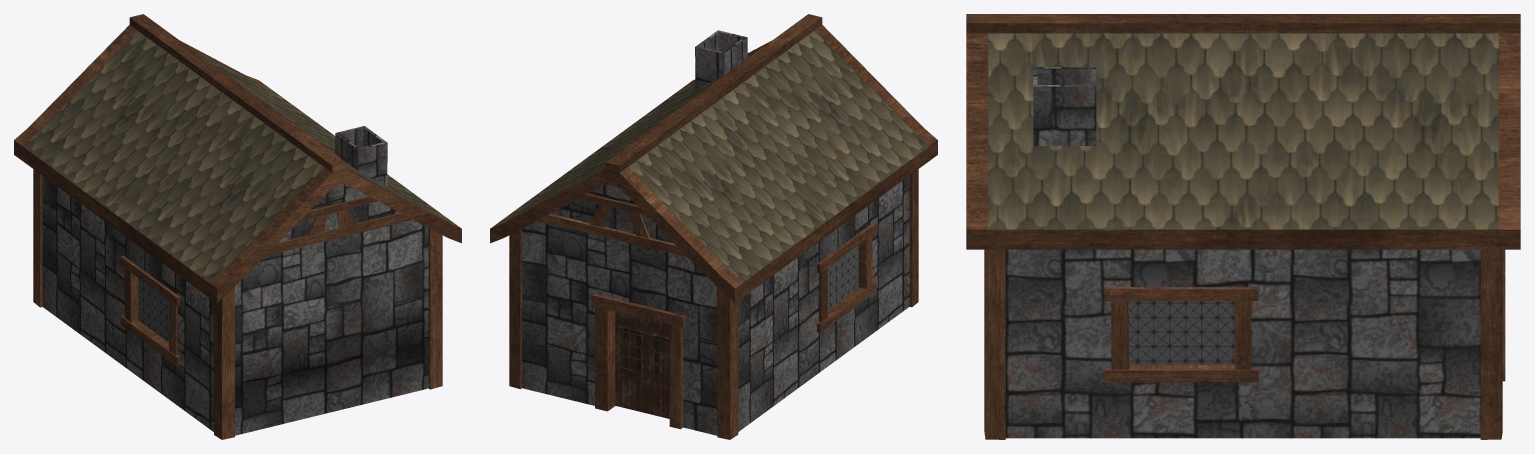
File: Medieval_House_1.glb
3 renders of one model, left to right at view 1: azimuth 30°, elevation 25°; view 2: azimuth 150°, elevation 25°; view 3: azimuth 270°, elevation 25°, orthographic. The views are drawn at different scales.
Visible parts, largest first — view 1: Medieval_House_1.glb; view 2: Medieval_House_1.glb; view 3: Medieval_House_1.glb.
Part boxes in pixels (<box>): Medieval_House_1.glb: <box>14,14,461,439</box>; Medieval_House_1.glb: <box>490,14,937,439</box>; Medieval_House_1.glb: <box>966,14,1520,439</box>.
Bounding box in the file's own units: 140 × 138 × 200.
10 materials, 9 textured.
